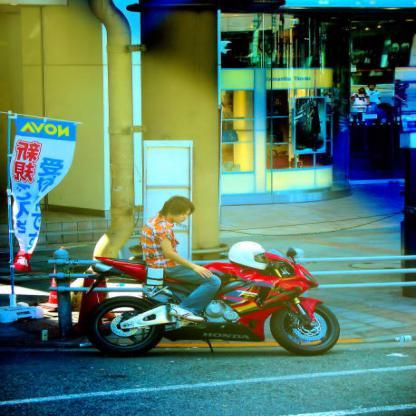Motorcycle: (73, 241, 347, 358)
